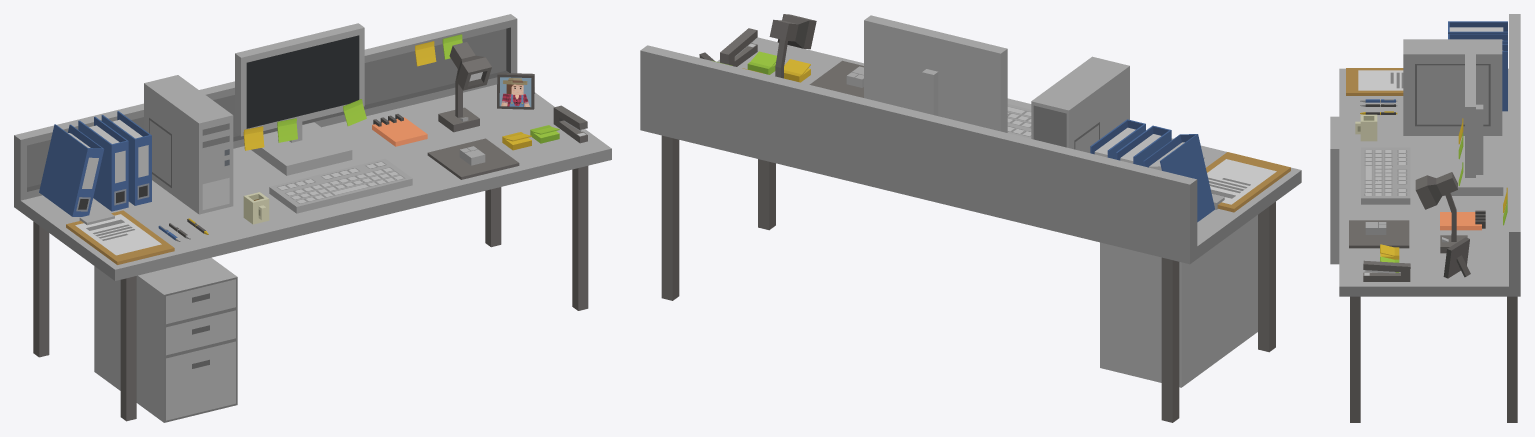
Rendered from DeskPreset.glb.
3 views of the same model, side by side, from view 1: azimuth 30°, elevation 25°; view 2: azimuth 150°, elevation 25°; view 3: azimuth 270°, elevation 25° (orthographic). The views are drawn at different scales.
Parts seen in each view (by area): view 1: SO_DeskPreset_01; view 2: SO_DeskPreset_01; view 3: SO_DeskPreset_01.
Part boxes in pixels (x1,y1,x2,y2): SO_DeskPreset_01: (14, 14, 611, 422); SO_DeskPreset_01: (640, 14, 1301, 422); SO_DeskPreset_01: (1330, 14, 1520, 422).
Bounding box in the file's own units: 0.0511 × 0.0269 × 0.0189.
1 material, 1 textured.
